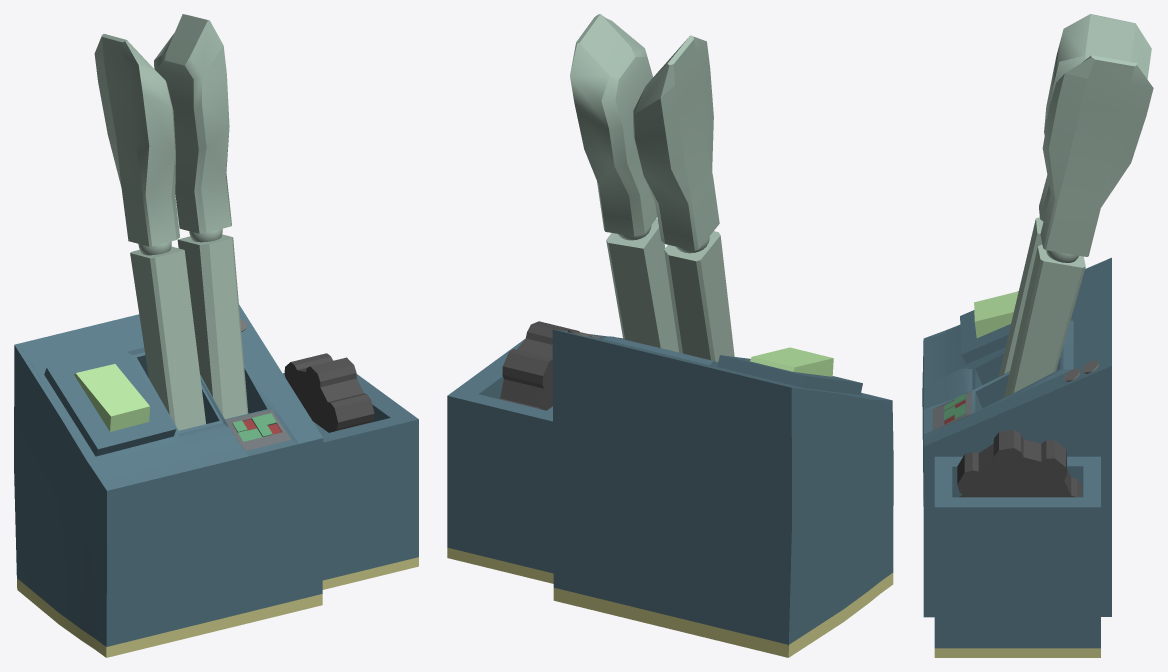
Rendered from 3 Working Arms.fbx.
3 renders of one model, left to right at view 1: azimuth 30°, elevation 25°; view 2: azimuth 150°, elevation 25°; view 3: azimuth 270°, elevation 25°, orthographic. The views are drawn at different scales.
Visible parts, largest first — view 1: ARM_On_Working; view 2: ARM_On_Working; view 3: ARM_On_Working.
Boxes of the visible parts, bbox=[...] form: ARM_On_Working: bbox=[14, 14, 418, 657]; ARM_On_Working: bbox=[447, 14, 893, 657]; ARM_On_Working: bbox=[922, 14, 1153, 657].
Size of the model in its own units: 2 by 3.19 by 1.23.
